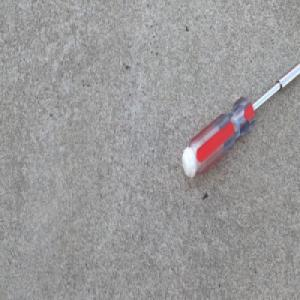Screwdriver: (180, 61, 300, 181)
